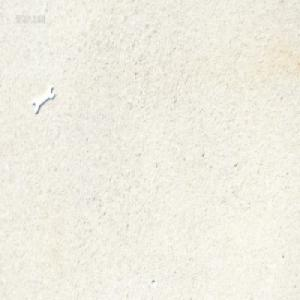Wrench: (32, 84, 56, 116)
